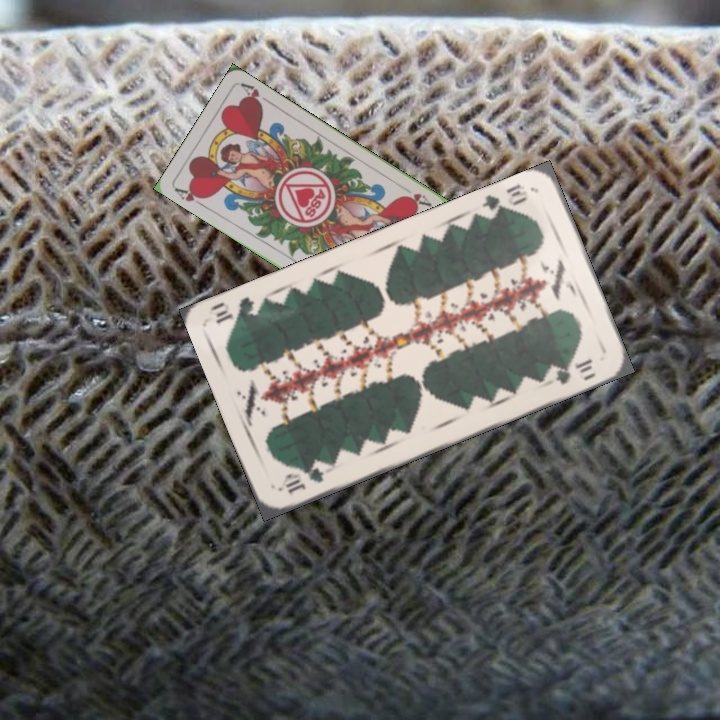G10: (478, 180, 531, 222), (281, 463, 327, 497)
HA: (170, 183, 208, 210), (396, 181, 433, 208)
